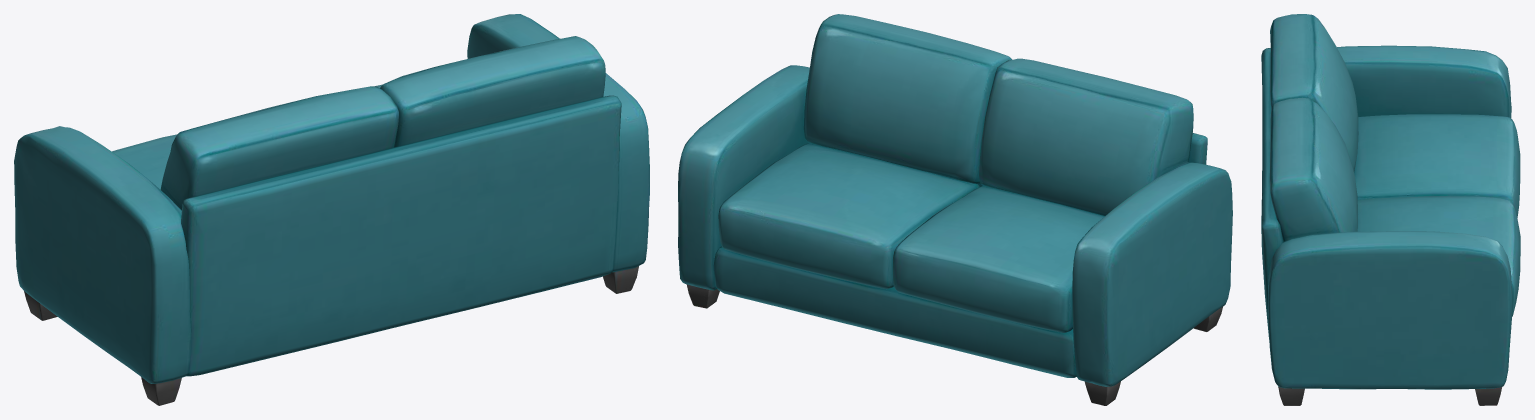
The model's file is apartment-sofa.glb.
3 views of the same model, side by side, from view 1: azimuth 30°, elevation 25°; view 2: azimuth 150°, elevation 25°; view 3: azimuth 270°, elevation 25° (orthographic). The views are drawn at different scales.
Visible parts, largest first — view 1: apartment-sofa; view 2: apartment-sofa; view 3: apartment-sofa.
Boxes of the visible parts, x1,y1,x2,y2 form: apartment-sofa: (14,14,649,405); apartment-sofa: (678,14,1232,405); apartment-sofa: (1261,14,1520,405).
Size of the model in its own units: 2.14 by 1.06 by 1.15.
1 material, 1 textured.
